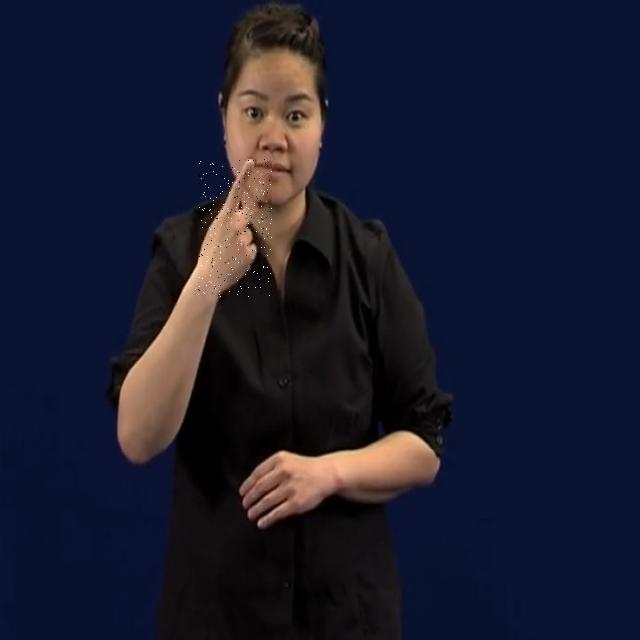vegetables: (198, 160, 272, 298)
